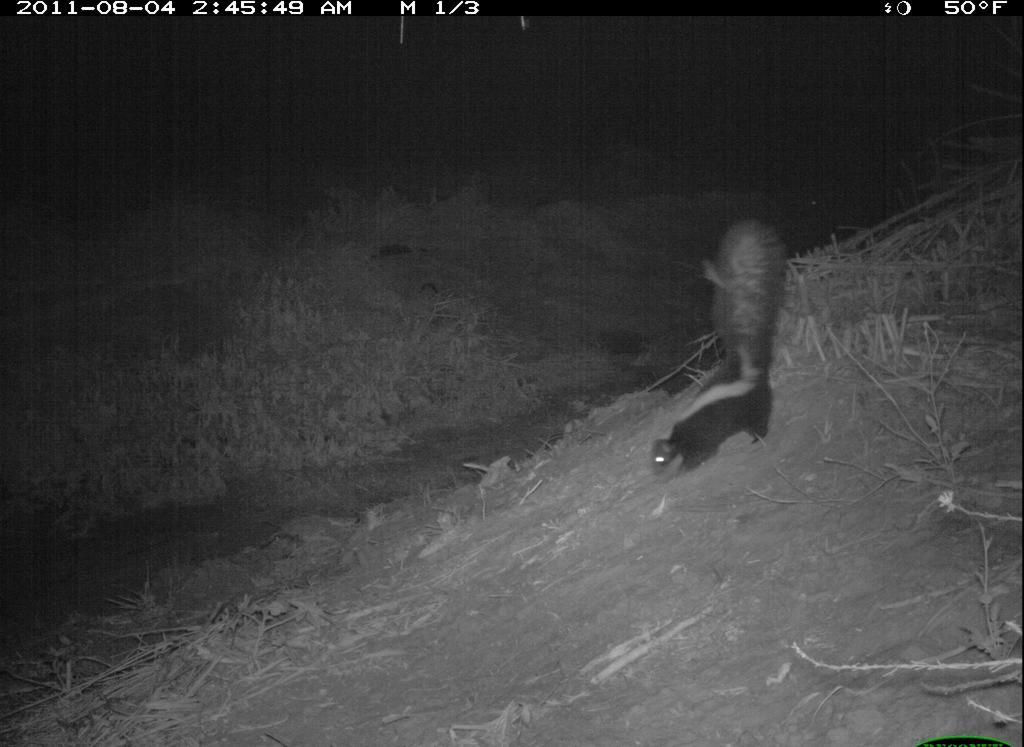skunk: (648, 217, 792, 497)
